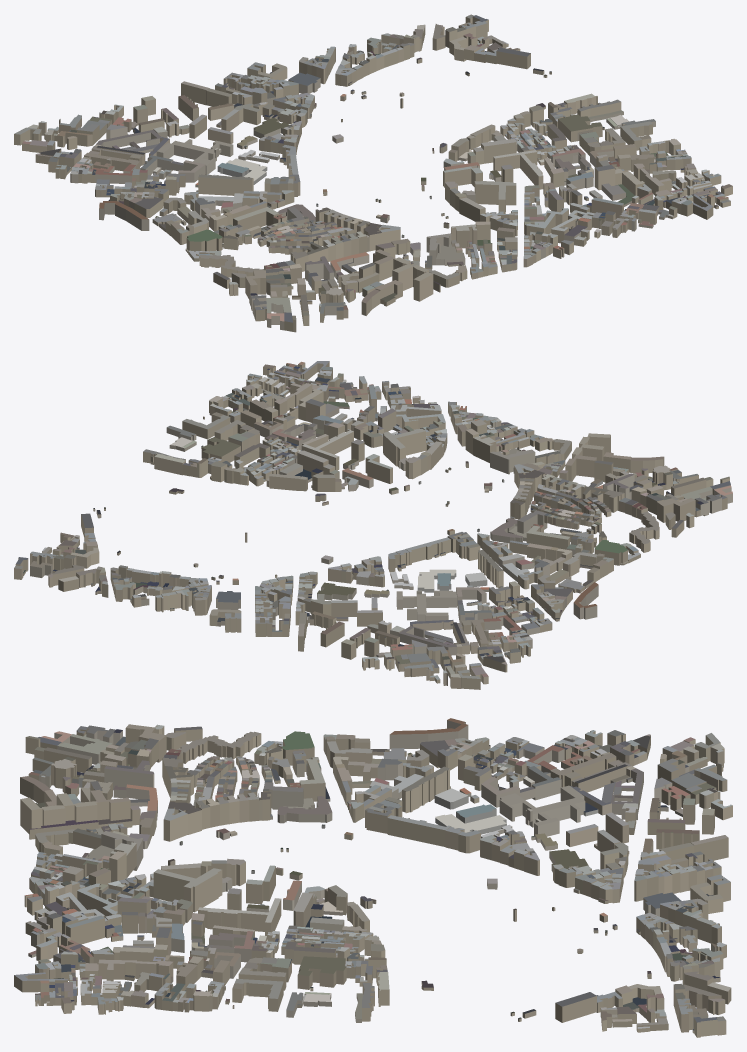
3 renders of one model, top to bottom at view 1: azimuth 30°, elevation 25°; view 2: azimuth 150°, elevation 25°; view 3: azimuth 270°, elevation 25°, orthographic. The views are drawn at different scales.
Parts seen in each view (by area): view 1: tuile; view 2: tuile; view 3: tuile.
Part boxes in pixels (<box>): tuile: <box>14,14,732,332</box>; tuile: <box>14,361,732,689</box>; tuile: <box>14,718,732,1037</box>.
Bounding box in the file's own units: 1067 × 85.58 × 1045.
